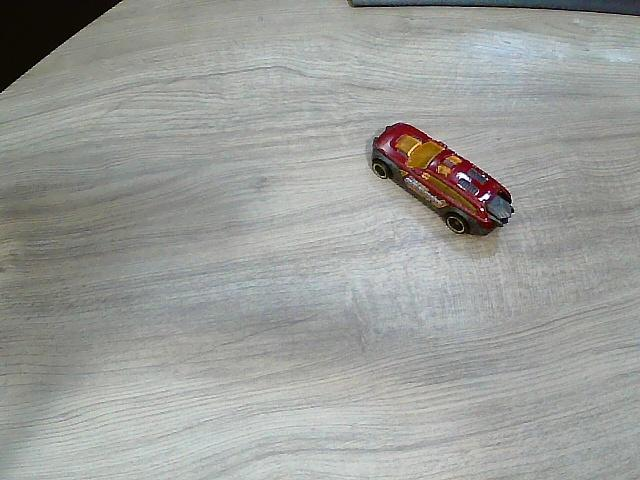Carro: (372, 126, 515, 238)
